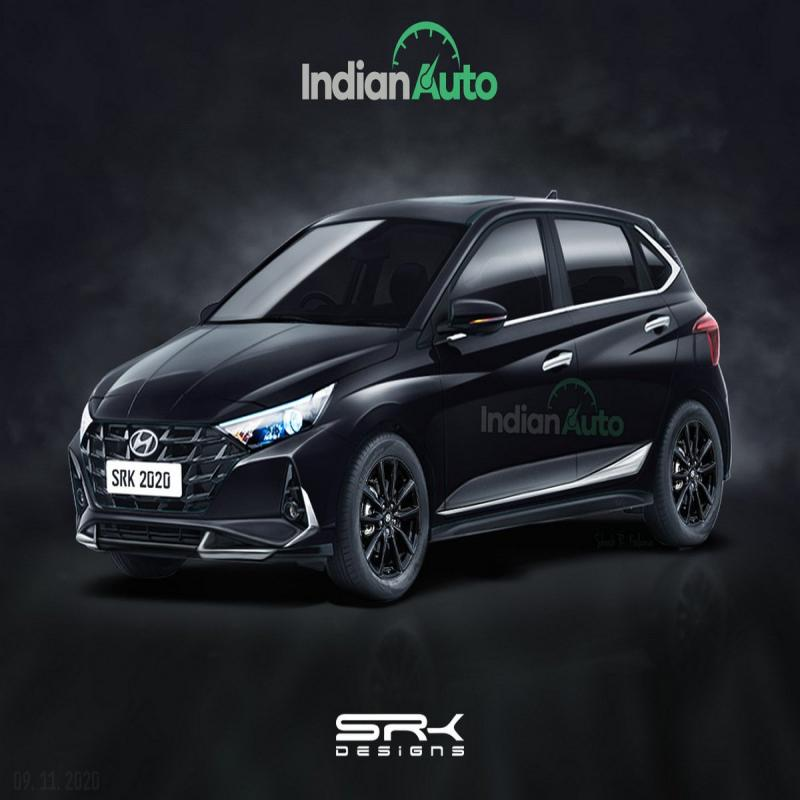car: (57, 163, 722, 601)
